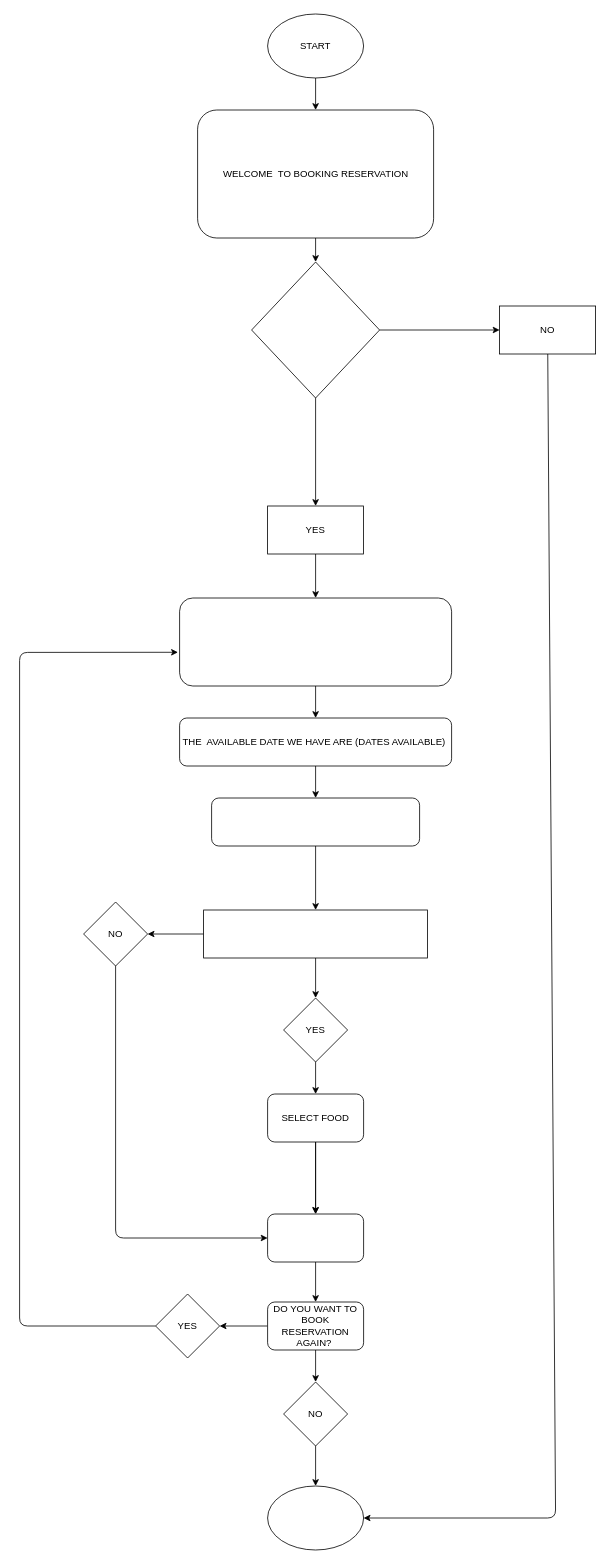
Some shapes in this 610 by 1564 pixel diagram are drawn without their labels. The shapes that lost their labels are listed below. From the top down, each one's centre as x and y in pixels, then its label:
At pixel 315 329: "DO YOU WANT TO BOOK RESERVATION?".
At pixel 315 641: "HOW MANY PEOPLE ?".
At pixel 315 821: "10,000 PESOS FOR 10 PAX".
At pixel 315 933: "DO YOU WANT ADD FOOD? (LIST OF FOOD)".
At pixel 315 1237: "RECIPES (LIST OF NEED TO PAY)".
At pixel 315 1517: "END".
